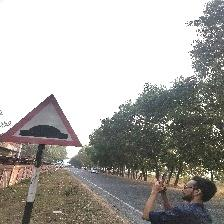Speed-breaker: (1, 96, 82, 146)
